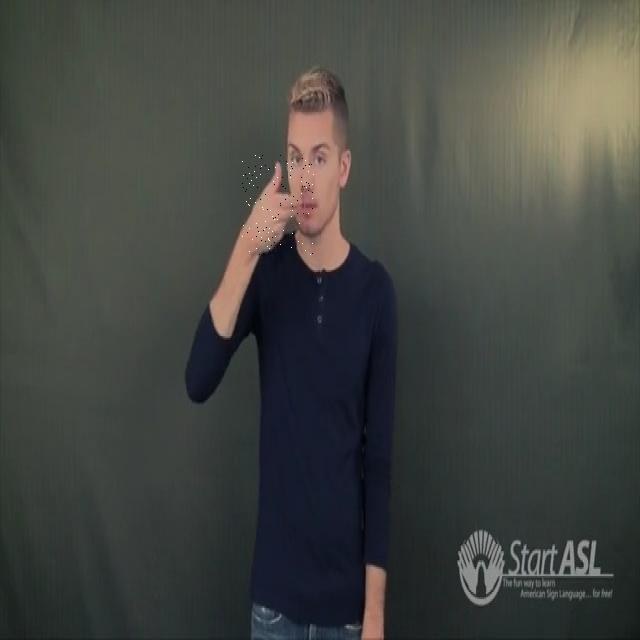pizza: (242, 155, 314, 255)
